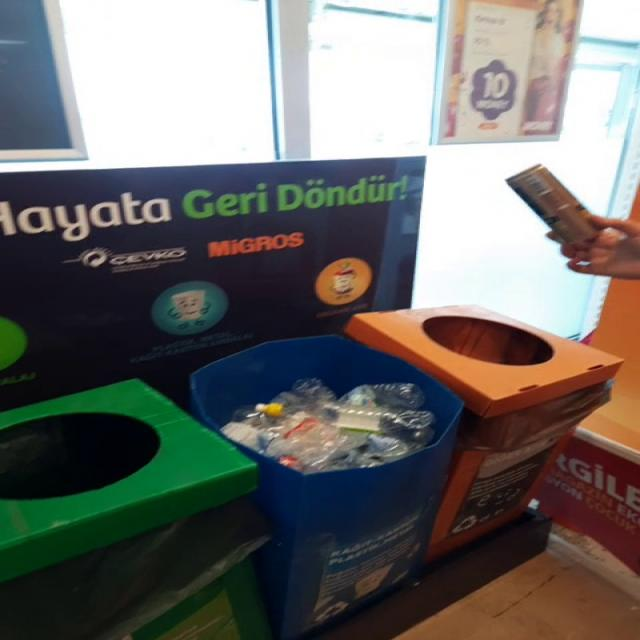bin: (191, 306, 623, 640), (0, 380, 268, 640)
metal: (507, 164, 600, 244)
